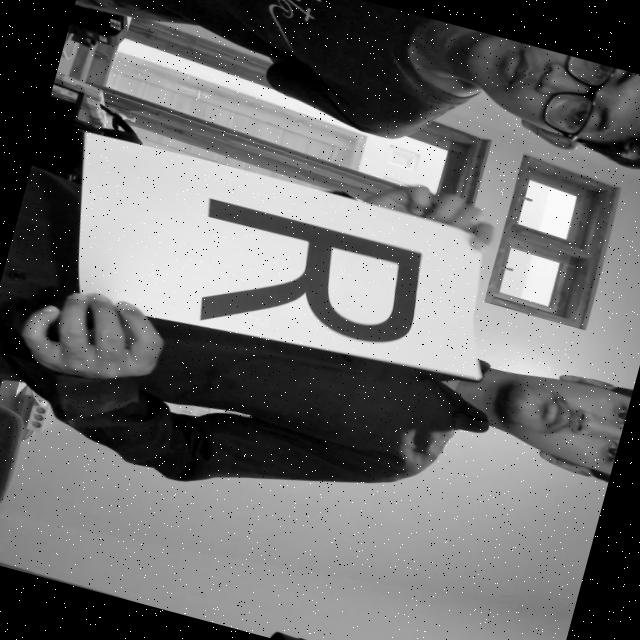r: (144, 174, 448, 385)
